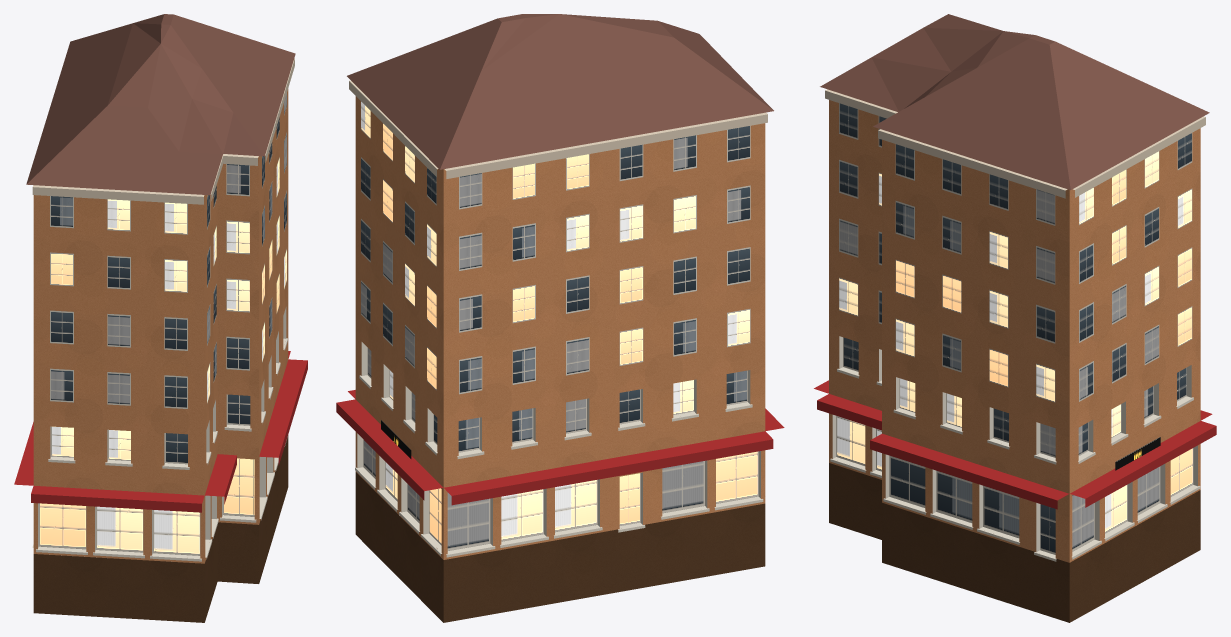
Rendered from langB_blackout.glb.
3 views of the same model, side by side, from view 1: azimuth 30°, elevation 25°; view 2: azimuth 150°, elevation 25°; view 3: azimuth 270°, elevation 25° (orthographic). The views are drawn at different scales.
Visible parts, largest first — view 1: langB_blackout; view 2: langB_blackout; view 3: langB_blackout.
Boxes of the visible parts, bbox=[...] form: langB_blackout: bbox=[14, 14, 307, 622]; langB_blackout: bbox=[336, 14, 784, 622]; langB_blackout: bbox=[814, 14, 1216, 622].
Bounding box in the file's own units: 18.42 × 25.81 × 18.25.
3 materials, 3 textured.
